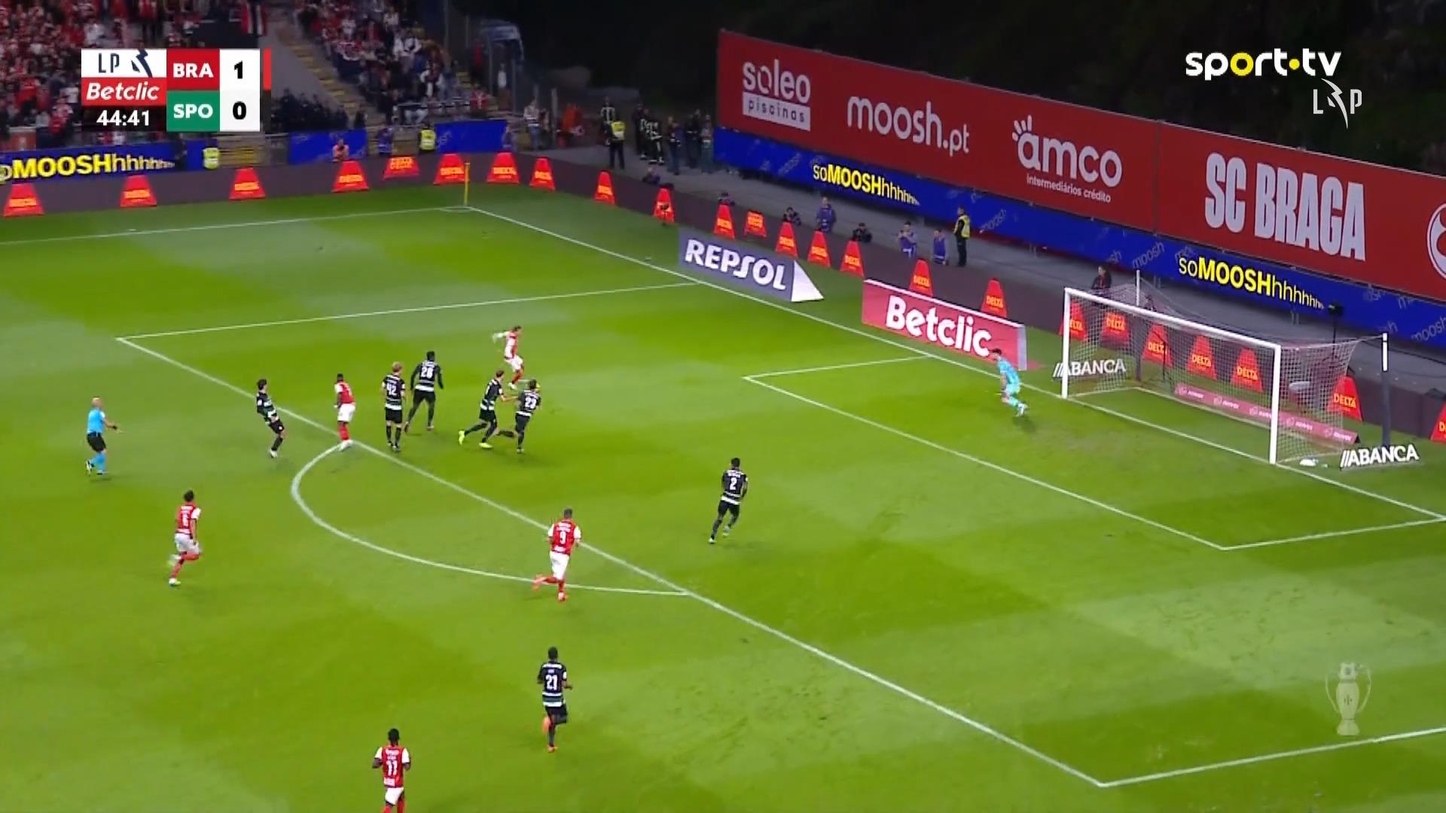goalkeeper: (986, 346, 1028, 416)
player: (531, 507, 581, 601), (456, 368, 508, 448), (535, 645, 572, 752), (707, 456, 749, 544), (401, 349, 444, 434), (166, 489, 203, 586), (371, 727, 411, 811), (502, 378, 541, 453), (254, 377, 286, 458), (380, 361, 407, 452), (491, 324, 524, 390), (332, 372, 355, 451)
referee: (84, 396, 118, 477)
